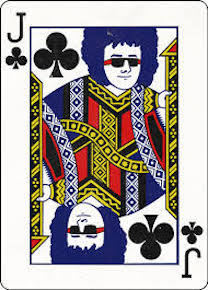JackOfClubs: (1, 1, 208, 288)
